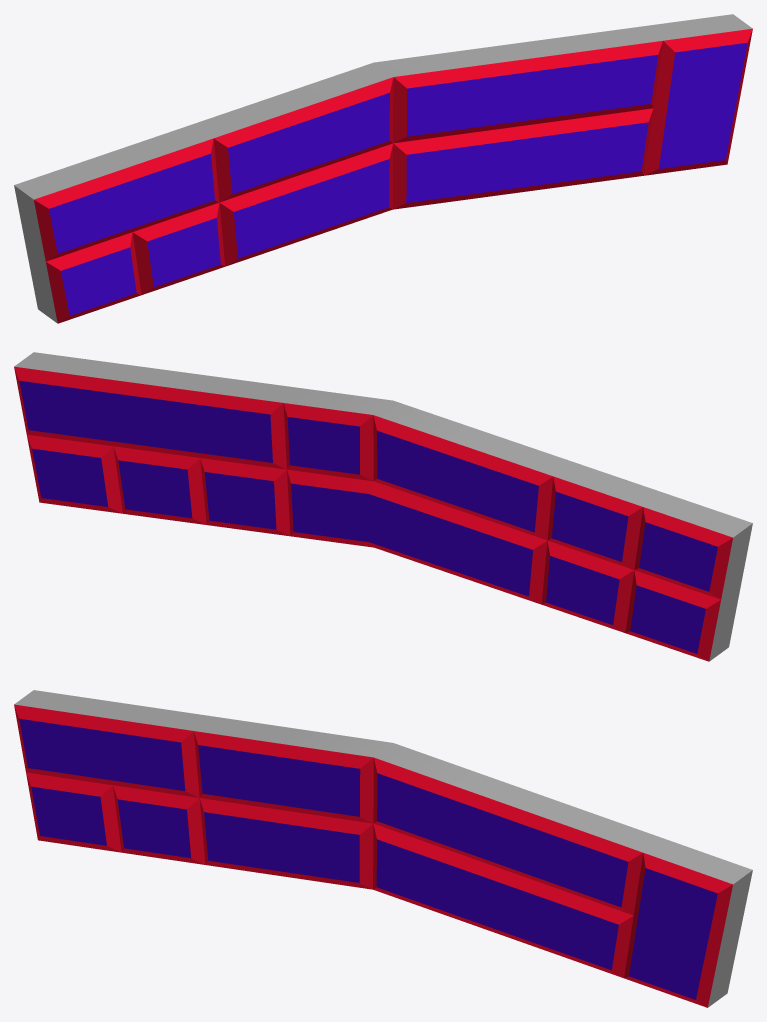
The model's file is Ms_MurScifi05.fbx.
3 views of the same model, one above another, from view 1: azimuth 30°, elevation 25°; view 2: azimuth 150°, elevation 25°; view 3: azimuth 330°, elevation 25° (orthographic).
Visible parts, largest first — view 1: Mur17, Mur16; view 2: Mur17, Mur16; view 3: Mur17, Mur16.
Part boxes in pixels (bbox=[...]): Mur17: bbox=[34, 28, 752, 323]; Mur16: bbox=[14, 14, 752, 323]; Mur17: bbox=[14, 366, 732, 661]; Mur16: bbox=[14, 352, 752, 661]; Mur17: bbox=[14, 704, 732, 1007]; Mur16: bbox=[14, 690, 752, 1007].
Size of the model in its own units: 0.4189 by 0.0941 by 0.03.
